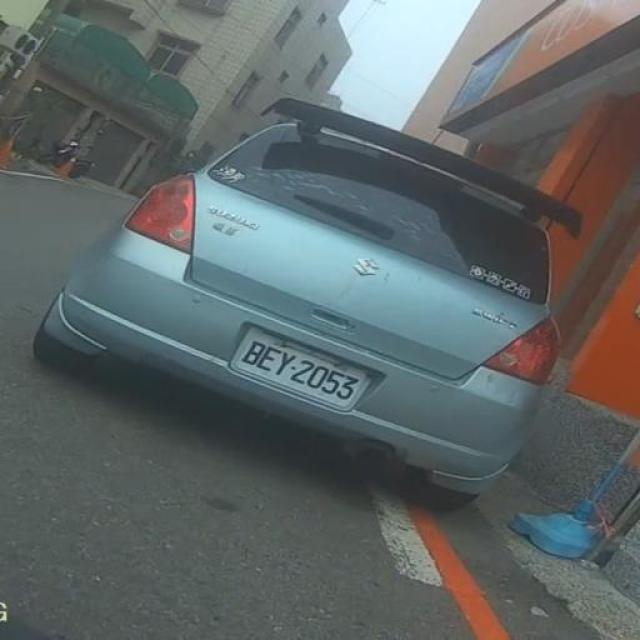illegalparking: (34, 99, 580, 508)
